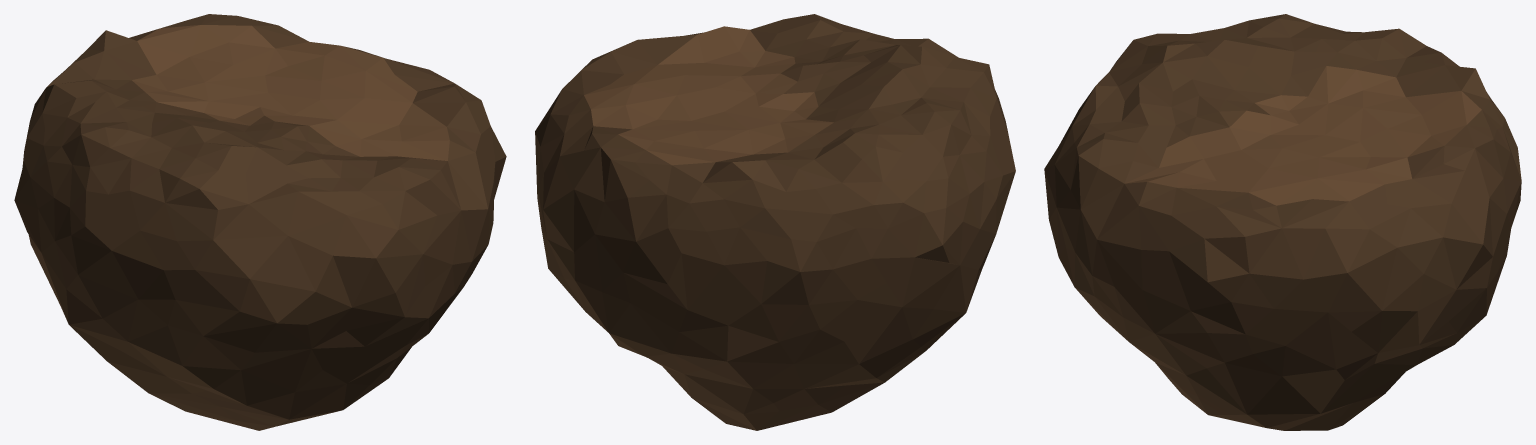
The model's file is somacolortest.gltf.
3 views of the same model, side by side, from view 1: azimuth 30°, elevation 25°; view 2: azimuth 150°, elevation 25°; view 3: azimuth 270°, elevation 25° (orthographic). The views are drawn at different scales.
Visible parts, largest first — view 1: Icosphere, Icosphere.001; view 2: Icosphere, Icosphere.001; view 3: Icosphere, Icosphere.001.
Boxes of the visible parts, x1,y1,x2,y2 form: Icosphere: (14, 14, 506, 430); Icosphere.001: (132, 25, 449, 160); Icosphere: (535, 14, 1015, 430); Icosphere.001: (584, 26, 833, 165); Icosphere: (1044, 14, 1521, 430); Icosphere.001: (1125, 66, 1481, 205).
Size of the model in its own units: 28.16 by 22.88 by 28.75.
